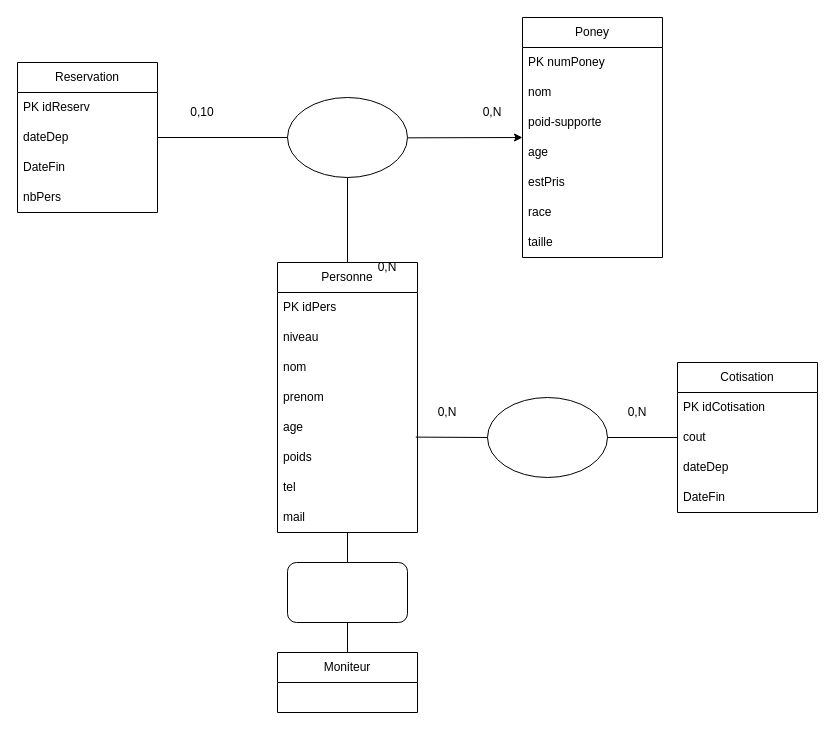
Some shapes in this 835 by 730 pixel diagram are drawn without their labels. Each missing label, with the centre of its shape:
Cotiser: the point at 547,437
is a: the point at 347,592
Reserver: the point at 347,137
